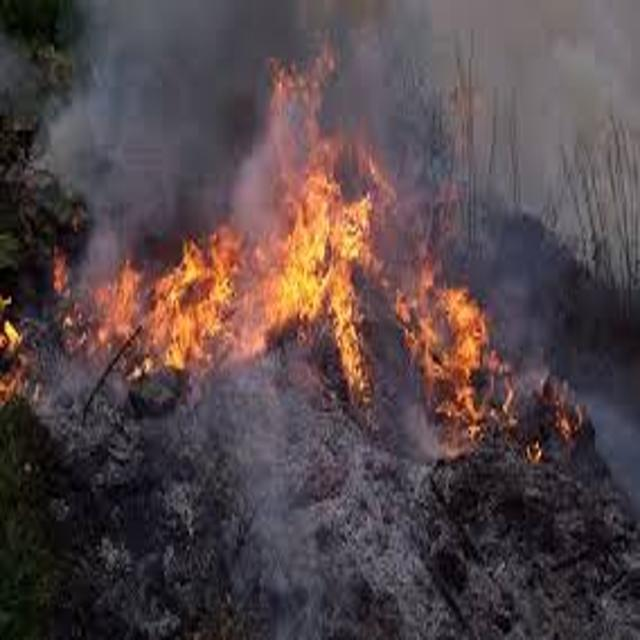Fire: (218, 49, 420, 345), (19, 222, 252, 384), (392, 241, 526, 471)
Smoke: (42, 0, 216, 222), (570, 385, 640, 483)
